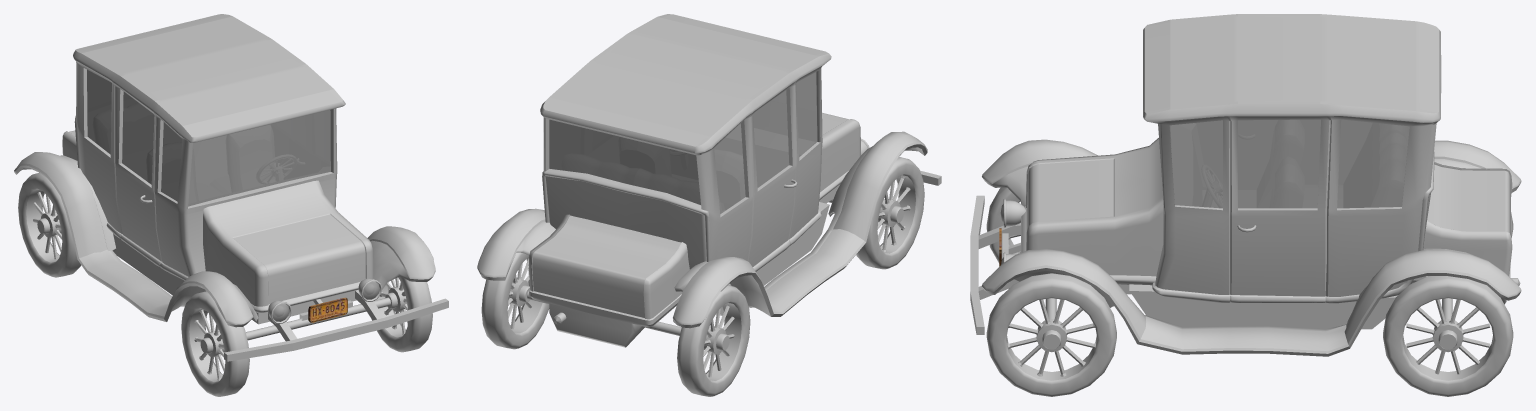
Rendered from Vehicle.fbx.
3 views of the same model, side by side, from view 1: azimuth 30°, elevation 25°; view 2: azimuth 150°, elevation 25°; view 3: azimuth 270°, elevation 25° (orthographic). The views are drawn at different scales.
Parts seen in each view (by area): view 1: Car; view 2: Car; view 3: Car.
Boxes of the visible parts, x1,y1,x2,y2 form: Car: (14,14,448,396); Car: (477,14,941,396); Car: (970,14,1521,396).
Bounding box in the file's own units: 4.8 × 4.79 × 8.51.
